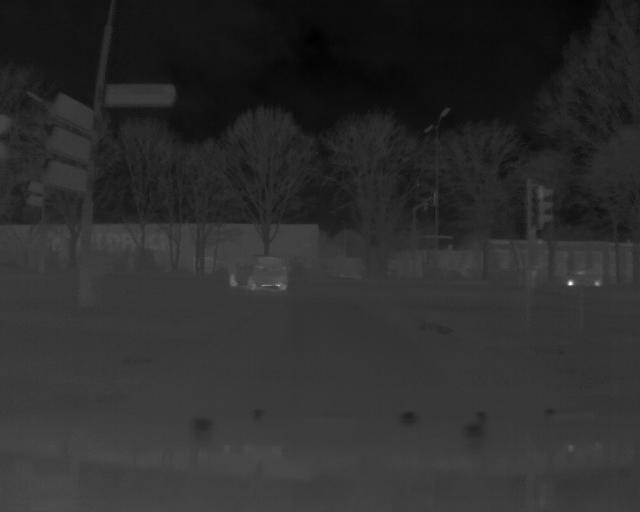car: (219, 249, 291, 298), (559, 263, 604, 289)
